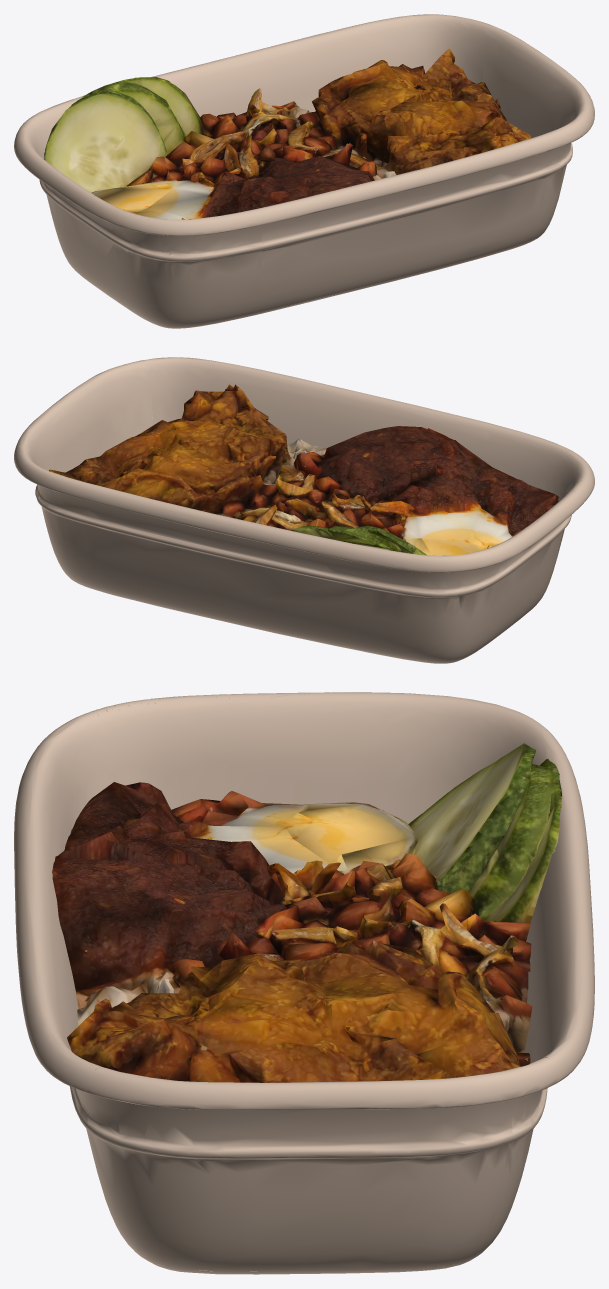
The model's file is nasi-lemak.glb.
3 views of the same model, one above another, from view 1: azimuth 30°, elevation 25°; view 2: azimuth 150°, elevation 25°; view 3: azimuth 270°, elevation 25° (orthographic). The views are drawn at different scales.
Parts seen in each view (by area): view 1: box_box_0 (×2), nasilemak_nasilemak_0; view 2: box_box_0 (×2), nasilemak_nasilemak_0; view 3: box_box_0 (×2), nasilemak_nasilemak_0.
Boxes of the visible parts, bbox=[...] form: box_box_0 (×2): bbox=[14, 14, 594, 328]; nasilemak_nasilemak_0: bbox=[44, 48, 531, 254]; box_box_0 (×2): bbox=[14, 357, 594, 663]; nasilemak_nasilemak_0: bbox=[49, 384, 558, 555]; box_box_0 (×2): bbox=[14, 692, 594, 1274]; nasilemak_nasilemak_0: bbox=[52, 743, 562, 1082].
Bounding box in the file's own units: 0.21 × 0.0598 × 0.1266.
2 materials, 1 textured.
